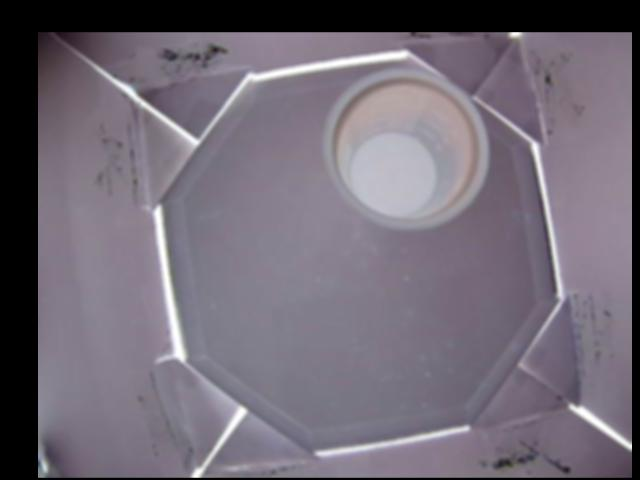Cup: (328, 69, 489, 230)
